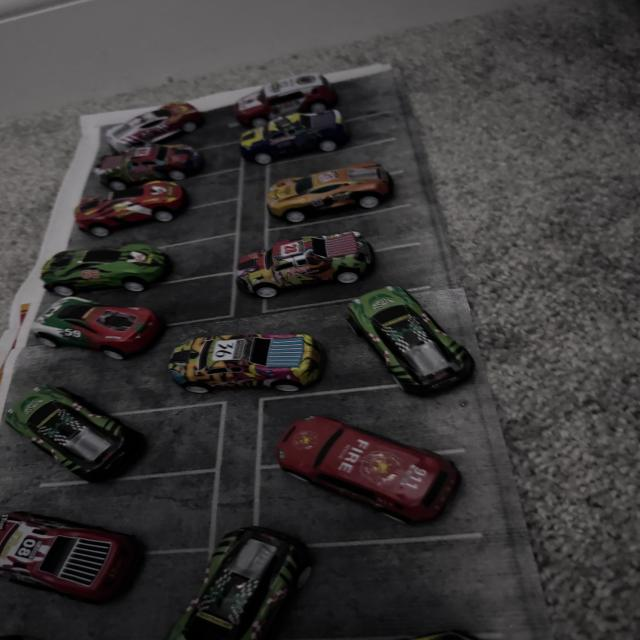car: (336, 283, 548, 424), (277, 391, 457, 549), (141, 509, 314, 640), (14, 372, 172, 493), (0, 524, 135, 634), (194, 243, 399, 309), (154, 324, 328, 398), (17, 287, 169, 362), (51, 128, 245, 186), (1, 236, 168, 294), (29, 188, 211, 236), (72, 95, 202, 155), (261, 164, 387, 216), (220, 116, 368, 160), (213, 67, 336, 116)
